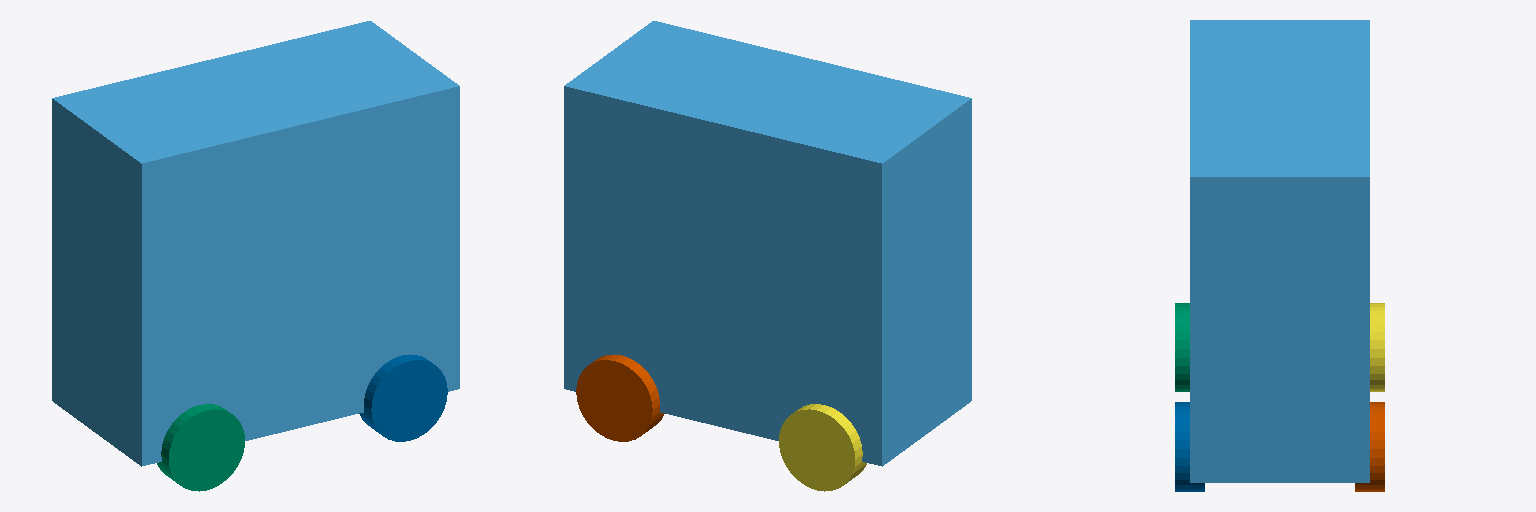
URDF robot description (firefighter):
<?xml version="1.0" ?>
<!-- =================================================================================== -->
<!-- |    This document was autogenerated by xacro from mevi.xacro                     | -->
<!-- |    EDITING THIS FILE BY HAND IS NOT RECOMMENDED                                 | -->
<!-- =================================================================================== -->
<robot name="firefighter">
  <!-- variable -->
  <gazebo reference="body_link">
    <mu1>0.2</mu1>
    <mu2>0.2</mu2>
    <material name="red">Gazebo/Red</material>
  </gazebo>
  <gazebo reference="frontwheel_lw_link">
    <mu1>0.2</mu1>
    <mu2>0.2</mu2>
    <material name="yellow">Gazebo/Yellow</material>
  </gazebo>
  <gazebo reference="frontwheel_rw_link">
    <mu1>0.2</mu1>
    <mu2>0.2</mu2>
    <material name="yellow">Gazebo/Yellow</material>
  </gazebo>
  <gazebo reference="rearwheel_lw_link">
    <mu1>0.2</mu1>
    <mu2>0.2</mu2>
    <material name="yellow">Gazebo/Yellow</material>
  </gazebo>
  <gazebo reference="rearwheel_rw_link">
    <mu1>0.2</mu1>
    <mu2>0.2</mu2>
    <material name="yellow">Gazebo/Yellow</material>
  </gazebo>
  <gazebo>
    <plugin filename="libgazebo_ros_skid_steer_drive.so" name="skid_steer_drive_controller">
      <updateRate>100</updateRate>
      <leftFrontJoint>frontwheel_lw_joint</leftFrontJoint>
      <rightFrontJoint>frontwheel_rw_joint</rightFrontJoint>
      <leftRearJoint>rearwheel_lw_joint</leftRearJoint>
      <rightRearJoint>rearwheel_rw_joint</rightRearJoint>
      <wheelSeparation>0.875</wheelSeparation>
      <wheelDiameter>0.37</wheelDiameter>
      <!--maximumTorque -->
      <torque>1000</torque>
      <commandTopic>cmd_vel</commandTopic>
      <odometryTopic>odom</odometryTopic>
      <odometryFrame>odom</odometryFrame>
      <robotBaseFrame>dummy</robotBaseFrame>
      <publishWheelTF>true</publishWheelTF>
      <publishOdom>true</publishOdom>
      <publishWheelJointState>true</publishWheelJointState>
      <covariance_x>0.0001</covariance_x>
      <covariance_y>0.0001</covariance_y>
      <covariance_yaw>0.01</covariance_yaw>
    </plugin>
  </gazebo>
  <!-- <gazebo>
        <plugin name="p3d_base_controller" filename="libgazebo_ros_p3d.so">
            <alwaysOn>true</alwaysOn>
            <updateRate>50.0</updateRate>
            <bodyName>body_link</bodyName>
            <topicName>ground_truth/state</topicName>
            <gaussianNoise>0.01</gaussianNoise>
            <frameName>world</frameName>
            <xyzOffsets>0 0 0</xyzOffsets>
            <rpyOffsets>0 0 0</rpyOffsets>
        </plugin>
    </gazebo> -->
  <!-- create a dummy joint and link in the simmulations -->
  <link name="dummy">
    <origin rpy="1.570795 0 0" xyz="0 0 0"/>
  </link>
  <joint name="dummy_joint" type="fixed">
    <parent link="dummy"/>
    <child link="body_link"/>
  </joint>
  <!-- THIS IS A BODY LINK -->
  <link name="body_link">
    <visual>
      <origin rpy="0 0 0" xyz="0 0 0"/>
      <geometry>
        <box size="1.54 0.75 1.4"/>
      </geometry>
      <!-- <material name="red">
            <color rgba="1 0 0 1"/>                
        </material> -->
    </visual>
    <collision>
      <origin rpy="0 0 0" xyz="0 0 0"/>
      <geometry>
        <box size="1.540 0.750 1.63"/>
      </geometry>
    </collision>
    <inertial>
      <origin rpy="0 0 0" xyz="0 0 0"/>
      <mass value="2182.95"/>
      <!-- moment inertia of body -->
      <!-- let we assume the wheel is a full cuboid, so
        ixx = Il = 1/12*m (w2 + h2)
        iyy = Iw = 1/12*m (l2 + h2)
        izz = Ih = 1/12*m (l2 + w2)
      -->
      <inertia ixx="458.8742812499999" ixy="0.0" ixz="0.0" iyy="787.9721849999999" iyz="0.0" izz="533.7494662499998"/>
    </inertial>
  </link>
  <!-- ####################### -->
  <!-- THIS IS A WHEEL JOINT -->
  <joint name="frontwheel_lw_joint" type="continuous">
    <parent link="body_link"/>
    <child link="frontwheel_lw_link"/>
    <origin rpy="0 0 0 " xyz="-0.490 -0.375 -0.665"/>
    <axis xyz="0 1 0"/>
    <!-- axis y rotation-->
    <limit effort="1000" velocity="1000"/>
    <dynamics damping="1.0" friction="1.0"/>
  </joint>
  <joint name="frontwheel_rw_joint" type="continuous">
    <parent link="body_link"/>
    <child link="frontwheel_rw_link"/>
    <origin rpy="0 0 0 " xyz="-0.490 0.375 -0.665"/>
    <axis xyz="0 1 0"/>
    <limit effort="1000" velocity="1000"/>
    <dynamics damping="1.0" friction="1.0"/>
    <!-- axis y rotation-->
  </joint>
  <joint name="rearwheel_lw_joint" type="continuous">
    <parent link="body_link"/>
    <child link="rearwheel_lw_link"/>
    <origin rpy="0 0 0 " xyz="0.490 -0.375 -0.665"/>
    <axis xyz="0 1 0"/>
    <!-- axis y rotation-->
    <limit effort="1000" velocity="1000"/>
    <dynamics damping="1.0" friction="1.0"/>
  </joint>
  <joint name="rearwheel_rw_joint" type="continuous">
    <parent link="body_link"/>
    <child link="rearwheel_rw_link"/>
    <origin rpy="0 0 0 " xyz="0.490 0.375 -0.665"/>
    <axis xyz="0 1 0"/>
    <!-- axis y rotation-->
    <limit effort="1000" velocity="1000"/>
    <dynamics damping="1.0" friction="1.0"/>
  </joint>
  <!-- ####################### -->
  <!-- THIS IS A WHEEL LINK -->
  <link name="frontwheel_lw_link">
    <visual>
      <origin rpy="1.570795 0 0" xyz="0 0 0"/>
      <!-- rotation on x as degree on radians (1.570795 is 90 degree in euler)-->
      <geometry>
        <cylinder length="0.125" radius="0.185"/>
      </geometry>
      <!-- <material name="yellow">
              <color rgba="1 1 0 1"/>                
          </material> -->
    </visual>
    <collision>
      <origin rpy="1.570795 0 0" xyz="0 0 0"/>
      <!-- rotation on x as degree on radians (1.570795 is 90 degree in euler)-->
      <geometry>
        <cylinder length="0.125" radius="0.185"/>
      </geometry>
      <!-- <material name="yellow">
            <color rgba="1 1 0 1"/>                
        </material> -->
    </collision>
    <inertial>
      <origin rpy="0 0 0" xyz="0 0 0"/>
      <mass value="14.784138661359375"/>
      <inertia ixx="0.14574696696990114" ixy="0.0" ixz="0.0" iyy="0.14574696696990114" iyz="0.0" izz="0.25299357284251234"/>
    </inertial>
  </link>
  <link name="frontwheel_rw_link">
    <visual>
      <origin rpy="1.570795 0 0" xyz="0 0 0"/>
      <!-- rotation on x as degree on radians (1.570795 is 90 degree in euler)-->
      <geometry>
        <cylinder length="0.125" radius="0.185"/>
      </geometry>
      <!-- <material name="yellow">
            <color rgba="1 1 0 1"/>                
        </material> -->
    </visual>
    <collision>
      <origin rpy="1.570795 0 0" xyz="0 0 0"/>
      <!-- rotation on x as degree on radians (1.570795 is 90 degree in euler)-->
      <geometry>
        <cylinder length="0.125" radius="0.185"/>
      </geometry>
      <!-- <material name="yellow">
          <color rgba="1 1 0 1"/>                
      </material> -->
    </collision>
    <inertial>
      <origin rpy="0 0 0" xyz="0 0 0"/>
      <mass value="14.784138661359375"/>
      <inertia ixx="0.14574696696990114" ixy="0.0" ixz="0.0" iyy="0.14574696696990114" iyz="0.0" izz="0.25299357284251234"/>
    </inertial>
  </link>
  <link name="rearwheel_lw_link">
    <visual>
      <origin rpy="1.570795 0 0" xyz="0 0 0"/>
      <!-- rotation on x as degree on radians (1.570795 is 90 degree in euler)-->
      <geometry>
        <cylinder length="0.125" radius="0.185"/>
      </geometry>
      <!-- <material name="yellow">
            <color rgba="1 1 0 1"/>                
        </material> -->
    </visual>
    <collision>
      <origin rpy="1.570795 0 0" xyz="0 0 0"/>
      <!-- rotation on x as degree on radians (1.570795 is 90 degree in euler)-->
      <geometry>
        <cylinder length="0.125" radius="0.185"/>
      </geometry>
      <!-- <material name="yellow">
          <color rgba="1 1 0 1"/>                
      </material> -->
    </collision>
    <inertial>
      <origin rpy="0 0 0" xyz="0 0 0"/>
      <mass value="14.784138661359375"/>
      <inertia ixx="0.14574696696990114" ixy="0.0" ixz="0.0" iyy="0.14574696696990114" iyz="0.0" izz="0.25299357284251234"/>
    </inertial>
  </link>
  <link name="rearwheel_rw_link">
    <visual>
      <origin rpy="1.570795 0 0" xyz="0 0 0"/>
      <!-- rotation on x as degree on radians (1.570795 is 90 degree in euler)-->
      <geometry>
        <cylinder length="0.125" radius="0.185"/>
      </geometry>
      <!-- <material name="yellow">
            <color rgba="1 1 0 1"/>                
        </material> -->
    </visual>
    <collision>
      <origin rpy="1.570795 0 0" xyz="0 0 0"/>
      <!-- rotation on x as degree on radians (1.570795 is 90 degree in euler)-->
      <geometry>
        <cylinder length="0.125" radius="0.185"/>
      </geometry>
      <!-- <material name="yellow">
          <color rgba="1 1 0 1"/>                
      </material> -->
    </collision>
    <inertial>
      <origin rpy="0 0 0" xyz="0 0 0"/>
      <mass value="14.784138661359375"/>
      <inertia ixx="0.14574696696990114" ixy="0.0" ixz="0.0" iyy="0.14574696696990114" iyz="0.0" izz="0.25299357284251234"/>
    </inertial>
  </link>
  <!-- ####################### -->
</robot>

--- What the picture shows (computed from the rendered views, not written in the file) ---
The picture shows the robot from 3 angles, left to right: view 1: azimuth 30°, elevation 25°; view 2: azimuth 150°, elevation 25°; view 3: azimuth 270°, elevation 25°; orthographic projection.
Robot: firefighter — 6 links, 5 joints (4 continuous, 1 fixed); root link dummy; default pose: all joints at 0.
Links seen in each view (by area): view 1: body_link, rearwheel_lw_link, frontwheel_lw_link; view 2: body_link, rearwheel_rw_link, frontwheel_rw_link; view 3: body_link, rearwheel_lw_link, rearwheel_rw_link, frontwheel_lw_link, frontwheel_rw_link.
Link boxes in pixels (x1,y1,x2,y2): body_link: (52,21,459,466); rearwheel_lw_link: (359,354,447,441); frontwheel_lw_link: (157,404,244,491); body_link: (564,21,971,466); rearwheel_rw_link: (576,354,664,441); frontwheel_rw_link: (779,404,866,491); body_link: (1190,20,1369,482); rearwheel_lw_link: (1175,402,1204,491); rearwheel_rw_link: (1355,402,1384,491); frontwheel_lw_link: (1175,303,1189,391); frontwheel_rw_link: (1370,303,1384,391).
Size in the robot's own frame: 1.54 by 0.875 by 1.55 metres.
Geometry: primitives only (box / cylinder / sphere), no mesh files.